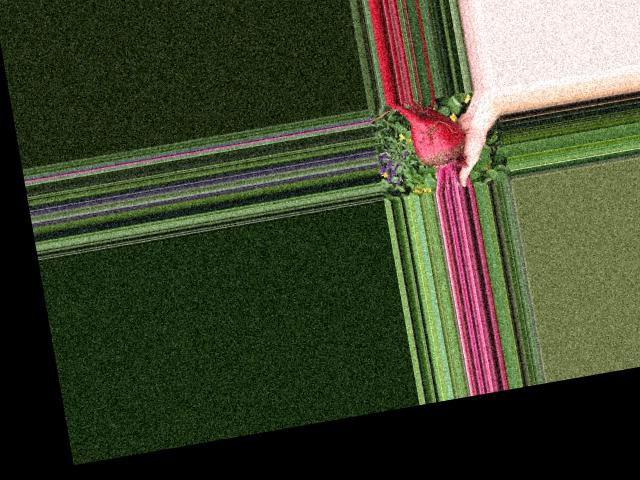beet: (387, 92, 472, 198)
